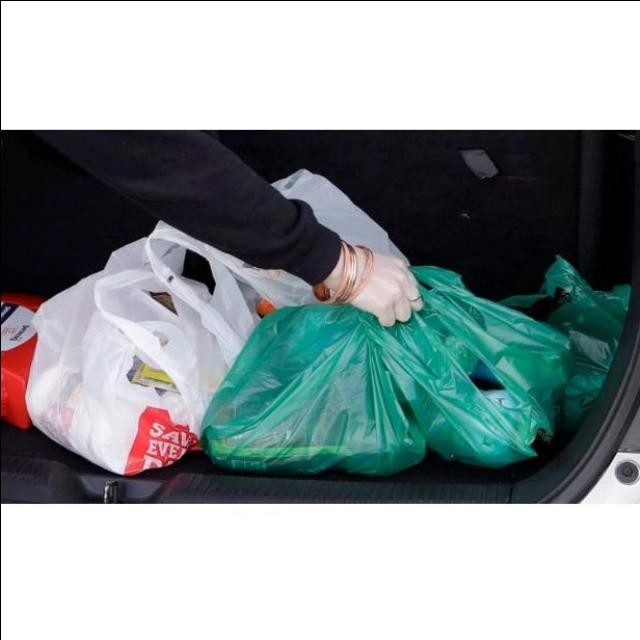plastik: (25, 221, 315, 474), (201, 304, 424, 474), (389, 265, 570, 466), (501, 255, 629, 429), (274, 169, 401, 257)
